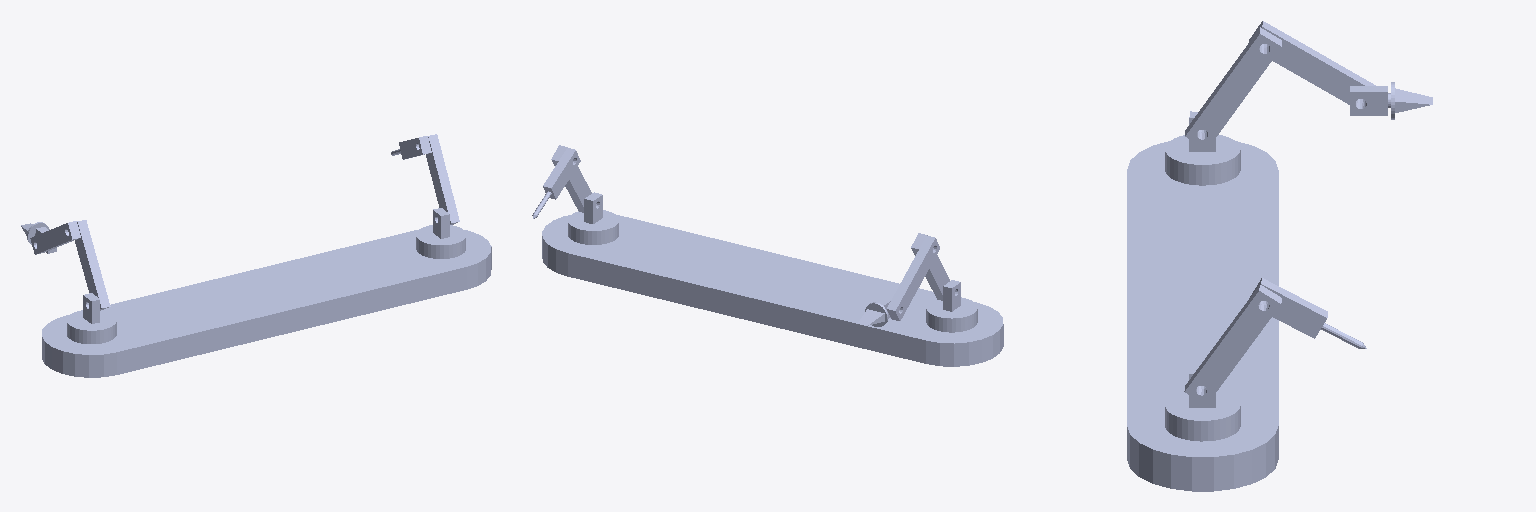
robot.urdf — dualrobot:
<?xml version="1.0" encoding="utf-8"?>
<!-- This URDF was automatically created by SolidWorks to URDF Exporter! Originally created by [author] ([email redacted]) 
     Commit Version: 1.5.1-0-g916b5db  Build Version: 1.5.7152.31018
     For more information, please see http://wiki.ros.org/sw_urdf_exporter -->
<robot
  name="dualrobot">
  <link
    name="base_link">
    <inertial>
      <origin
        xyz="4.4409E-16 0 0.25"
        rpy="0 0 0" />
      <mass
        value="9570.8" />
      <inertia
        ixx="3258.8"
        ixy="-5.9212E-14"
        ixz="-4.811E-14"
        iyy="73725"
        iyz="3.7007E-15"
        izz="76585" />
    </inertial>
    <visual>
      <origin
        xyz="0 0 0"
        rpy="0 0 0" />
      <geometry>
        <mesh
          filename="package://dualrobot/meshes/base_link.STL" />
      </geometry>
      <material
        name="">
        <color
          rgba="0.79216 0.81961 0.93333 1" />
      </material>
    </visual>
    <collision>
      <origin
        xyz="0 0 0"
        rpy="0 0 0" />
      <geometry>
        <mesh
          filename="package://dualrobot/meshes/base_link.STL" />
      </geometry>
    </collision>
  </link>
  <link
    name="L1_1">
    <inertial>
      <origin
        xyz="0 0.1958 0"
        rpy="0 0 0" />
      <mass
        value="267.09" />
      <inertia
        ixx="21.726"
        ixy="6.3316E-16"
        ixz="6.467E-15"
        iyy="29.91"
        iyz="4.2913E-15"
        izz="21.479" />
    </inertial>
    <visual>
      <origin
        xyz="0 0 0"
        rpy="0 0 0" />
      <geometry>
        <mesh
          filename="package://dualrobot/meshes/L1_1.STL" />
      </geometry>
      <material
        name="">
        <color
          rgba="0.79216 0.81961 0.93333 1" />
      </material>
    </visual>
    <collision>
      <origin
        xyz="0 0 0"
        rpy="0 0 0" />
      <geometry>
        <mesh
          filename="package://dualrobot/meshes/L1_1.STL" />
      </geometry>
    </collision>
  </link>
  <joint
    name="J1_1"
    type="continuous">
    <origin
      xyz="-4 0 0.5"
      rpy="1.5708 0 -0.011722" />
    <parent
      link="base_link" />
    <child
      link="L1_1" />
    <axis
      xyz="0 1 0" />
  </joint>
  <link
    name="L2_1">
    <inertial>
      <origin
        xyz="0.75 -2.1316E-14 0.11501"
        rpy="0 0 0" />
      <mass
        value="118.93" />
      <inertia
        ixx="1.6727"
        ixy="8.1857E-13"
        ixz="4.4843E-15"
        iyy="30.43"
        iyz="6.6613E-16"
        izz="31.31" />
    </inertial>
    <visual>
      <origin
        xyz="0 0 0"
        rpy="0 0 0" />
      <geometry>
        <mesh
          filename="package://dualrobot/meshes/L2_1.STL" />
      </geometry>
      <material
        name="">
        <color
          rgba="0.79216 0.81961 0.93333 1" />
      </material>
    </visual>
    <collision>
      <origin
        xyz="0 0 0"
        rpy="0 0 0" />
      <geometry>
        <mesh
          filename="package://dualrobot/meshes/L2_1.STL" />
      </geometry>
    </collision>
  </link>
  <joint
    name="J2_1"
    type="continuous">
    <origin
      xyz="0.084991 0.65 0"
      rpy="1.5708 0.58096 1.5708" />
    <parent
      link="L1_1" />
    <child
      link="L2_1" />
    <axis
      xyz="0 0 1" />
  </joint>
  <link
    name="L3_1">
    <inertial>
      <origin
        xyz="0.75 -1.3323E-14 -0.084991"
        rpy="0 0 0" />
      <mass
        value="118.93" />
      <inertia
        ixx="1.6727"
        ixy="4.7462E-13"
        ixz="1.5762E-14"
        iyy="30.43"
        iyz="-8.743E-16"
        izz="31.31" />
    </inertial>
    <visual>
      <origin
        xyz="0 0 0"
        rpy="0 0 0" />
      <geometry>
        <mesh
          filename="package://dualrobot/meshes/L3_1.STL" />
      </geometry>
      <material
        name="">
        <color
          rgba="0.79216 0.81961 0.93333 1" />
      </material>
    </visual>
    <collision>
      <origin
        xyz="0 0 0"
        rpy="0 0 0" />
      <geometry>
        <mesh
          filename="package://dualrobot/meshes/L3_1.STL" />
      </geometry>
    </collision>
  </link>
  <joint
    name="J3_1"
    type="continuous">
    <origin
      xyz="1.5 0 0"
      rpy="0 0 -1.5496" />
    <parent
      link="L2_1" />
    <child
      link="L3_1" />
    <axis
      xyz="0 0 1" />
  </joint>
  <link
    name="L4_1">
    <inertial>
      <origin
        xyz="0.12377 3.5527E-15 0.10645"
        rpy="0 0 0" />
      <mass
        value="33.037" />
      <inertia
        ixx="0.46506"
        ixy="-1.0538E-14"
        ixz="-9.0128E-15"
        iyy="0.89811"
        iyz="2.9785E-17"
        izz="1.1455" />
    </inertial>
    <visual>
      <origin
        xyz="0 0 0"
        rpy="0 0 0" />
      <geometry>
        <mesh
          filename="package://dualrobot/meshes/L4_1.STL" />
      </geometry>
      <material
        name="">
        <color
          rgba="0.79216 0.81961 0.93333 1" />
      </material>
    </visual>
    <collision>
      <origin
        xyz="0 0 0"
        rpy="0 0 0" />
      <geometry>
        <mesh
          filename="package://dualrobot/meshes/L4_1.STL" />
      </geometry>
    </collision>
  </link>
  <joint
    name="J4_1"
    type="continuous">
    <origin
      xyz="1.5 0 0.0085551"
      rpy="0 0 0.56147" />
    <parent
      link="L3_1" />
    <child
      link="L4_1" />
    <axis
      xyz="0 0 1" />
  </joint>
  <link
    name="L5_1">
    <inertial>
      <origin
        xyz="8.3267E-17 0.131 -5.3291E-15"
        rpy="0 0 0" />
      <mass
        value="24.653" />
      <inertia
        ixx="0.54542"
        ixy="7.3726E-17"
        ixz="-3.4377E-15"
        iyy="0.47751"
        iyz="7.3369E-15"
        izz="0.67568" />
    </inertial>
    <visual>
      <origin
        xyz="0 0 0"
        rpy="0 0 0" />
      <geometry>
        <mesh
          filename="package://dualrobot/meshes/L5_1.STL" />
      </geometry>
      <material
        name="">
        <color
          rgba="0.79216 0.81961 0.93333 1" />
      </material>
    </visual>
    <collision>
      <origin
        xyz="0 0 0"
        rpy="0 0 0" />
      <geometry>
        <mesh
          filename="package://dualrobot/meshes/L5_1.STL" />
      </geometry>
    </collision>
  </link>
  <joint
    name="J5_1"
    type="continuous">
    <origin
      xyz="0.40009 0 0.10645"
      rpy="0 -1.5591 -1.5708" />
    <parent
      link="L4_1" />
    <child
      link="L5_1" />
    <axis
      xyz="0 1 0" />
  </joint>
  <link
    name="L1_2">
    <inertial>
      <origin
        xyz="1.7764E-15 0.1958 0"
        rpy="0 0 0" />
      <mass
        value="267.09" />
      <inertia
        ixx="21.726"
        ixy="-1.0688E-15"
        ixz="-5.107E-15"
        iyy="29.91"
        iyz="2.5849E-15"
        izz="21.479" />
    </inertial>
    <visual>
      <origin
        xyz="0 0 0"
        rpy="0 0 0" />
      <geometry>
        <mesh
          filename="package://dualrobot/meshes/L1_2.STL" />
      </geometry>
      <material
        name="">
        <color
          rgba="0.79216 0.81961 0.93333 1" />
      </material>
    </visual>
    <collision>
      <origin
        xyz="0 0 0"
        rpy="0 0 0" />
      <geometry>
        <mesh
          filename="package://dualrobot/meshes/L1_2.STL" />
      </geometry>
    </collision>
  </link>
  <joint
    name="J1_2"
    type="continuous">
    <origin
      xyz="4 0 0.5"
      rpy="1.5708 0 -0.050394" />
    <parent
      link="base_link" />
    <child
      link="L1_2" />
    <axis
      xyz="0 1 0" />
  </joint>
  <link
    name="L2_2">
    <inertial>
      <origin
        xyz="0.75 -3.5527E-14 0.16451"
        rpy="0 0 0" />
      <mass
        value="118.93" />
      <inertia
        ixx="1.6727"
        ixy="1.2454E-12"
        ixz="-6.9787E-13"
        iyy="30.43"
        iyz="-1.3656E-14"
        izz="31.31" />
    </inertial>
    <visual>
      <origin
        xyz="0 0 0"
        rpy="0 0 0" />
      <geometry>
        <mesh
          filename="package://dualrobot/meshes/L2_2.STL" />
      </geometry>
      <material
        name="">
        <color
          rgba="0.79216 0.81961 0.93333 1" />
      </material>
    </visual>
    <collision>
      <origin
        xyz="0 0 0"
        rpy="0 0 0" />
      <geometry>
        <mesh
          filename="package://dualrobot/meshes/L2_2.STL" />
      </geometry>
    </collision>
  </link>
  <joint
    name="J2_2"
    type="continuous">
    <origin
      xyz="0.035493 0.65 0"
      rpy="1.5708 0.58231 1.5708" />
    <parent
      link="L1_2" />
    <child
      link="L2_2" />
    <axis
      xyz="0 0 1" />
  </joint>
  <link
    name="L3_2">
    <inertial>
      <origin
        xyz="0.42368 4.0412E-14 0.035493"
        rpy="0 0 0" />
      <mass
        value="71.405" />
      <inertia
        ixx="0.93723"
        ixy="-3.2305E-13"
        ixz="1.4866E-13"
        iyy="8.6749"
        iyz="1.6778E-14"
        izz="9.163" />
    </inertial>
    <visual>
      <origin
        xyz="0 0 0"
        rpy="0 0 0" />
      <geometry>
        <mesh
          filename="package://dualrobot/meshes/L3_2.STL" />
      </geometry>
      <material
        name="">
        <color
          rgba="0.79216 0.81961 0.93333 1" />
      </material>
    </visual>
    <collision>
      <origin
        xyz="0 0 0"
        rpy="0 0 0" />
      <geometry>
        <mesh
          filename="package://dualrobot/meshes/L3_2.STL" />
      </geometry>
    </collision>
  </link>
  <joint
    name="J3_2"
    type="continuous">
    <origin
      xyz="1.5 0 0"
      rpy="-3.1416 0 -1.4882" />
    <parent
      link="L2_2" />
    <child
      link="L3_2" />
    <axis
      xyz="0 0 1" />
  </joint>

  <link name="world" />
  <joint name="world_joint" type="fixed">
    <origin xyz="0 0 0" rpy="0 0 0" />
    <parent link="world"/>
    <child link="base_link"/>
  </joint>

  <transmission name="trans_base_link_to_L1_1">
    <type>transmission_interface/SimpleTransmission</type>
    <joint name="J1_1">
      <hardwareInterface>PositionJointInterface</hardwareInterface>
    </joint>
    <actuator name="base_link_to_L1_1_motor">
      <hardwareInterface>PositionJointInterface</hardwareInterface>
      <mechanicalReduction>1</mechanicalReduction>
    </actuator>
  </transmission>
  <transmission name="trans_L1_1_to_L2_1">
    <type>transmission_interface/SimpleTransmission</type>
    <joint name="J2_1">
      <hardwareInterface>PositionJointInterface</hardwareInterface>
    </joint>
    <actuator name="L1_1_to_L2_1_motor">
      <hardwareInterface>PositionJointInterface</hardwareInterface>
      <mechanicalReduction>1</mechanicalReduction>
    </actuator>
  </transmission>
  <transmission name="trans_L2_1_to_L3_1">
    <type>transmission_interface/SimpleTransmission</type>
    <joint name="J3_1">
      <hardwareInterface>PositionJointInterface</hardwareInterface>
    </joint>
    <actuator name="L2_1_to_L3_1_motor">
      <hardwareInterface>PositionJointInterface</hardwareInterface>
      <mechanicalReduction>1</mechanicalReduction>
    </actuator>
  </transmission>
  <transmission name="trans_L3_1_to_L4_1">
    <type>transmission_interface/SimpleTransmission</type>
    <joint name="J4_1">
      <hardwareInterface>PositionJointInterface</hardwareInterface>
    </joint>
    <actuator name="L3_1_to_L4_1_motor">
      <hardwareInterface>PositionJointInterface</hardwareInterface>
      <mechanicalReduction>1</mechanicalReduction>
    </actuator>
  </transmission>
  <transmission name="trans_L4_1_to_L5_1">
    <type>transmission_interface/SimpleTransmission</type>
    <joint name="J5_1">
      <hardwareInterface>PositionJointInterface</hardwareInterface>
    </joint>
    <actuator name="L4_1_to_L5_1_motor">
      <hardwareInterface>PositionJointInterface</hardwareInterface>
      <mechanicalReduction>1</mechanicalReduction>
    </actuator>
  </transmission>
  <transmission name="trans_base_link_to_L1_2">
    <type>transmission_interface/SimpleTransmission</type>
    <joint name="J1_2">
      <hardwareInterface>PositionJointInterface</hardwareInterface>
    </joint>
    <actuator name="base_link_to_L1_2_motor">
      <hardwareInterface>PositionJointInterface</hardwareInterface>
      <mechanicalReduction>1</mechanicalReduction>
    </actuator>
  </transmission>
  <transmission name="trans_L1_2_to_L2_2">
    <type>transmission_interface/SimpleTransmission</type>
    <joint name="J2_2">
      <hardwareInterface>PositionJointInterface</hardwareInterface>
    </joint>
    <actuator name="L1_2_to_L2_2_motor">
      <hardwareInterface>PositionJointInterface</hardwareInterface>
      <mechanicalReduction>1</mechanicalReduction>
    </actuator>
  </transmission>
  <transmission name="trans_L2_2_to_L3_2">
    <type>transmission_interface/SimpleTransmission</type>
    <joint name="J3_2">
      <hardwareInterface>PositionJointInterface</hardwareInterface>
    </joint>
    <actuator name="L2_2_to_L3_2_motor">
      <hardwareInterface>PositionJointInterface</hardwareInterface>
      <mechanicalReduction>1</mechanicalReduction>
    </actuator>
  </transmission>
  <gazebo>
    <mu1>50.0</mu1>
    <mu2>100.0</mu2>
    <minDepth>0.003</minDepth>
    <plugin name="gazebo_ros_control" filename="libgazebo_ros_control.so">
      <robotNamespace>/</robotNamespace>
    </plugin>
  </gazebo>
</robot>

--- Facts derived from the render (not from the file) ---
The picture shows the robot from 3 angles, left to right: view 1: azimuth 30°, elevation 25°; view 2: azimuth 150°, elevation 25°; view 3: azimuth 270°, elevation 25°; orthographic projection.
Robot: dualrobot — 10 links, 9 joints (8 continuous, 1 fixed); root link world; default pose: all joints at 0.
Visible links, largest first — view 1: base_link, L1_1, L1_2, L2_1, L2_2, L3_1, L3_2; view 2: base_link, L1_2, L1_1, L3_1, L3_2, L2_2, L2_1; view 3: base_link, L2_1, L2_2, L1_2, L1_1, L3_1, L3_2, L4_1, L5_1.
Link boxes in pixels (x1,y1,x2,y2): base_link: (42,229,491,377); L1_1: (67,293,116,343); L1_2: (416,208,465,258); L2_1: (75,220,110,310); L2_2: (426,134,459,224); L3_1: (30,221,80,254); L3_2: (391,136,431,159); base_link: (542,215,1003,366); L1_2: (568,192,618,244); L1_1: (926,280,977,332); L3_1: (887,236,939,320); L3_2: (532,148,580,218); L2_2: (551,145,591,212); L2_1: (911,233,949,300); base_link: (1127,141,1278,491); L2_1: (1185,27,1281,149); L2_2: (1184,285,1281,405); L1_2: (1165,367,1240,441); L1_1: (1165,111,1240,185); L3_1: (1249,21,1375,104); L3_2: (1250,278,1366,348); L4_1: (1350,86,1390,115); L5_1: (1391,82,1432,119).
Bounding box of the posed robot: 9.98 × 4.04 × 2.63 m (x, y, z).
Meshes: 9 distinct files referenced, 9 mesh visuals loaded (9 binary STL).